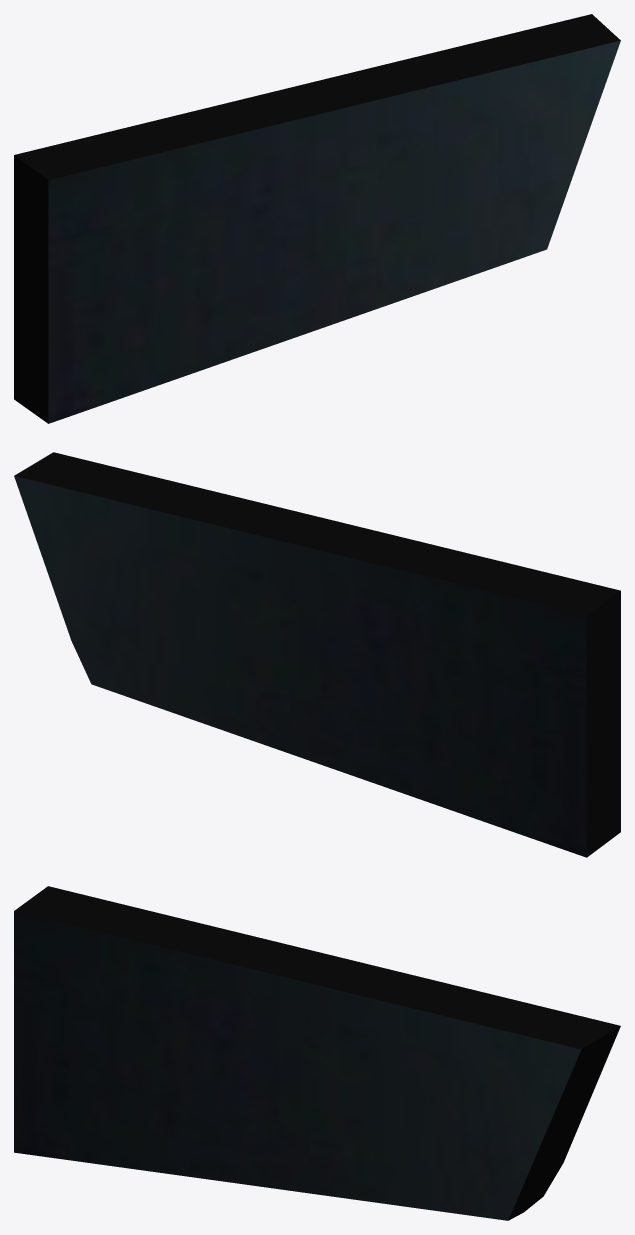
Rendered from Puzzle_2_Cell_10.glb.
3 renders of one model, top to bottom at view 1: azimuth 30°, elevation 25°; view 2: azimuth 150°, elevation 25°; view 3: azimuth 330°, elevation 25°, orthographic.
Visible parts, largest first — view 1: Puzzle_1_cell.010; view 2: Puzzle_1_cell.010; view 3: Puzzle_1_cell.010.
Boxes of the visible parts, left/top/right/bottom form: Puzzle_1_cell.010: left=14, top=14, right=620, bottom=423; Puzzle_1_cell.010: left=14, top=452, right=620, bottom=857; Puzzle_1_cell.010: left=14, top=886, right=620, bottom=1220.
Size of the model in its own units: 1.45 by 0.587 by 0.15.
Materials: 2 (1 with a texture image).
